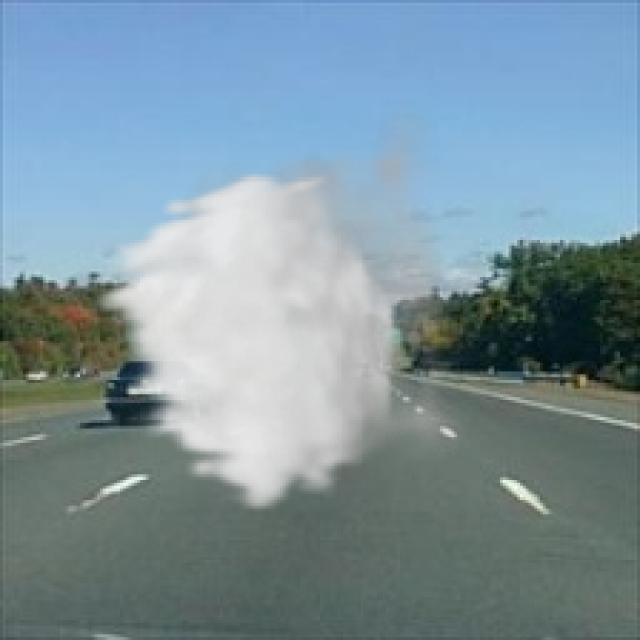smoke: (89, 97, 474, 514)
